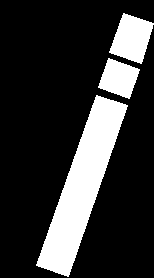parkingspot: (36, 95, 127, 276), (109, 13, 153, 63), (98, 58, 139, 98)
